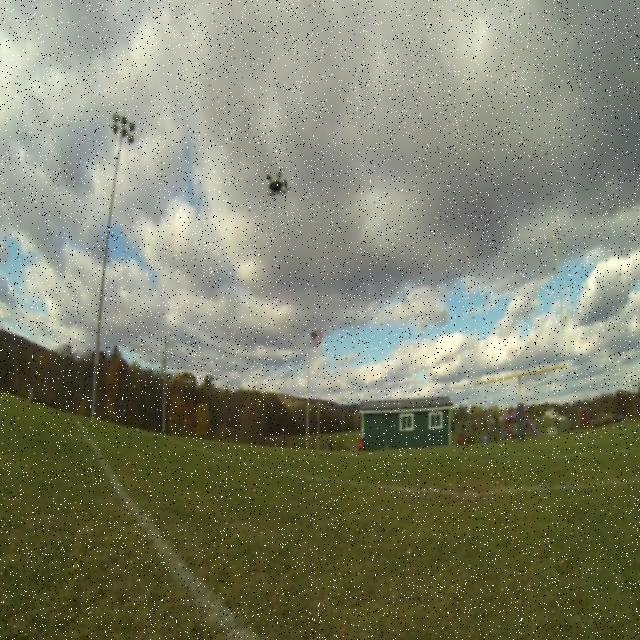UAV: (264, 167, 290, 197)
